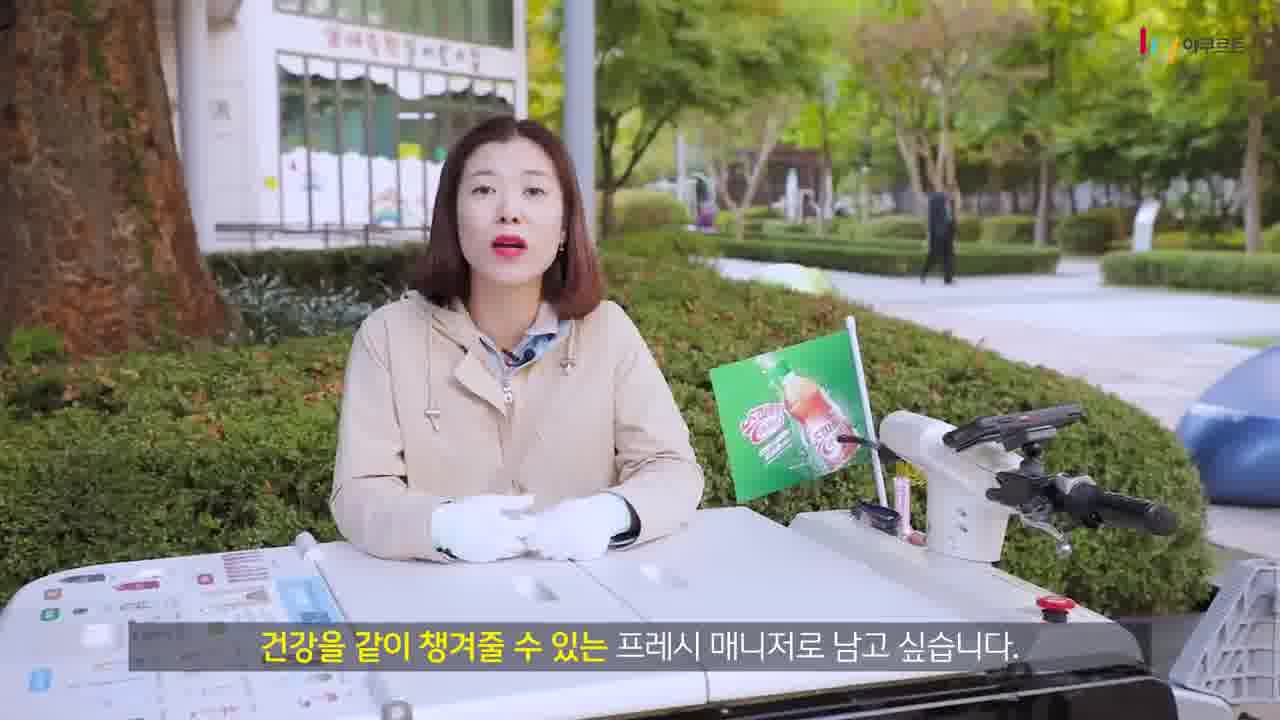Yakurut: (316, 110, 723, 589)
